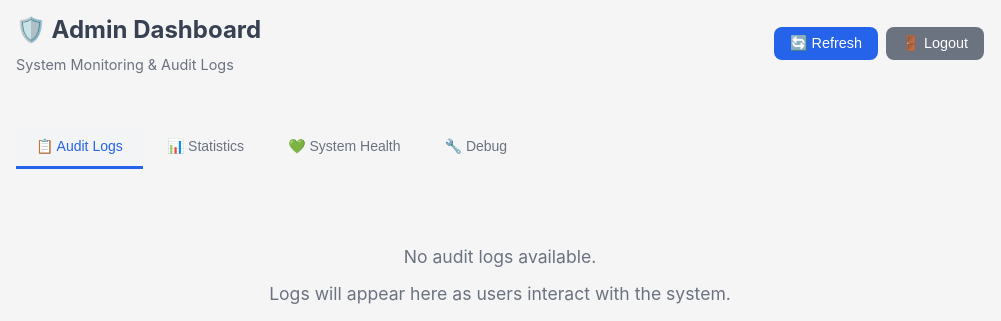
Test: AdminPanel › Debug Tab › shows no data message when debug data is empty
# Switch to Debug tab
Click the button "🔧 Debug" at (476, 148), box [424, 126, 527, 169]
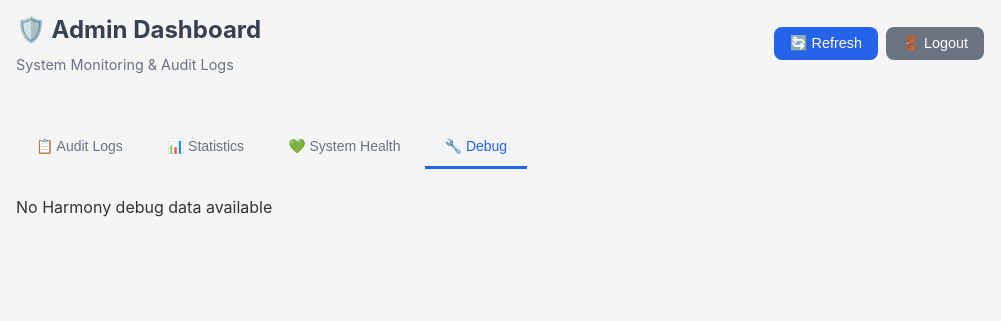
Expected: the text "No Harmony debug data available" is shown, [16, 197, 272, 217]
